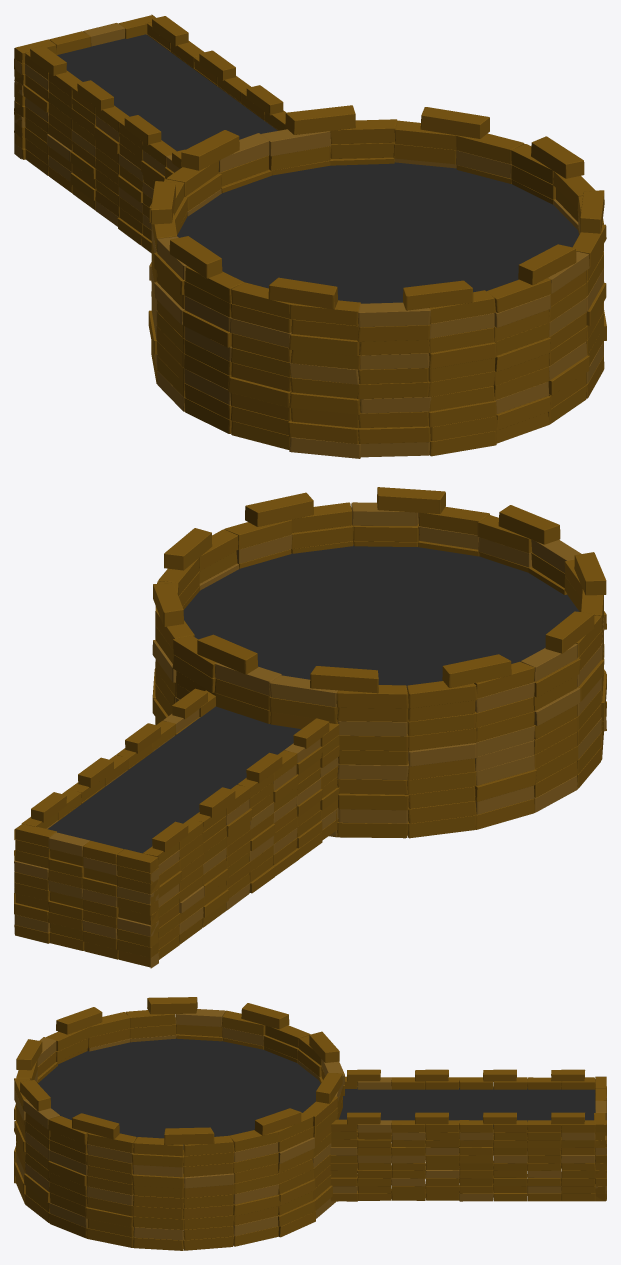
The model's file is Wall_BlockCircularBONUS.fbx.
3 renders of one model, top to bottom at view 1: azimuth 30°, elevation 25°; view 2: azimuth 150°, elevation 25°; view 3: azimuth 270°, elevation 25°, orthographic. The views are drawn at different scales.
Parts seen in each view (by area): view 1: Cube.012, Circle, Cube.020, Cube.013, Plane, Cube.022, Cube.021, Cube.008, Cube.002; view 2: Cube.012, Circle, Cube.020, Cube.022, Plane, Cube.013, Cube.021, Cube.008, Cube.002; view 3: Cube.012, Cube.002, Circle, Cube.013, Plane, Cube.020, Cube.008, Cube.021, Cube.022.
Boxes of the visible parts, x1,y1,x2,y2 form: Cube.012: (148, 119, 606, 458); Circle: (177, 162, 578, 303); Cube.020: (22, 51, 179, 253); Cube.013: (151, 105, 604, 310); Plane: (57, 34, 277, 151); Cube.022: (14, 14, 155, 159); Cube.021: (30, 45, 185, 168); Cube.008: (152, 16, 283, 115); Cube.002: (145, 22, 286, 130); Cube.012: (152, 502, 606, 838); Circle: (183, 544, 579, 689); Cube.020: (143, 722, 339, 959); Cube.022: (14, 824, 159, 968); Plane: (48, 706, 301, 853); Cube.013: (153, 487, 606, 693); Cube.021: (152, 718, 329, 852); Cube.008: (31, 688, 207, 822); Cube.002: (21, 690, 215, 828); Cube.012: (14, 1009, 344, 1250); Cube.002: (330, 1119, 595, 1201); Circle: (38, 1038, 320, 1149); Cube.013: (16, 997, 342, 1144); Plane: (339, 1087, 595, 1126); Cube.020: (344, 1076, 595, 1156); Cube.008: (347, 1112, 585, 1124); Cube.021: (347, 1069, 585, 1081); Cube.022: (594, 1076, 606, 1201).
Size of the model in its own units: 16.83 by 6.52 by 30.14.
